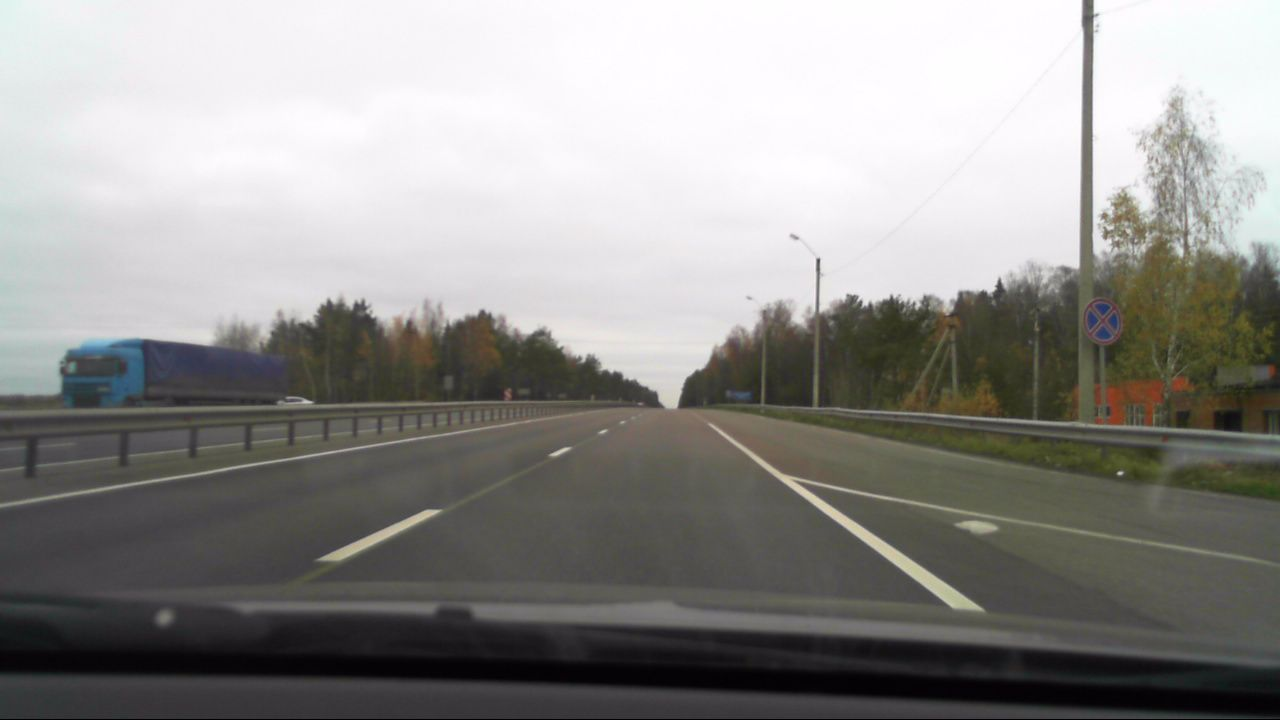No Parking: (1079, 297, 1124, 351)
